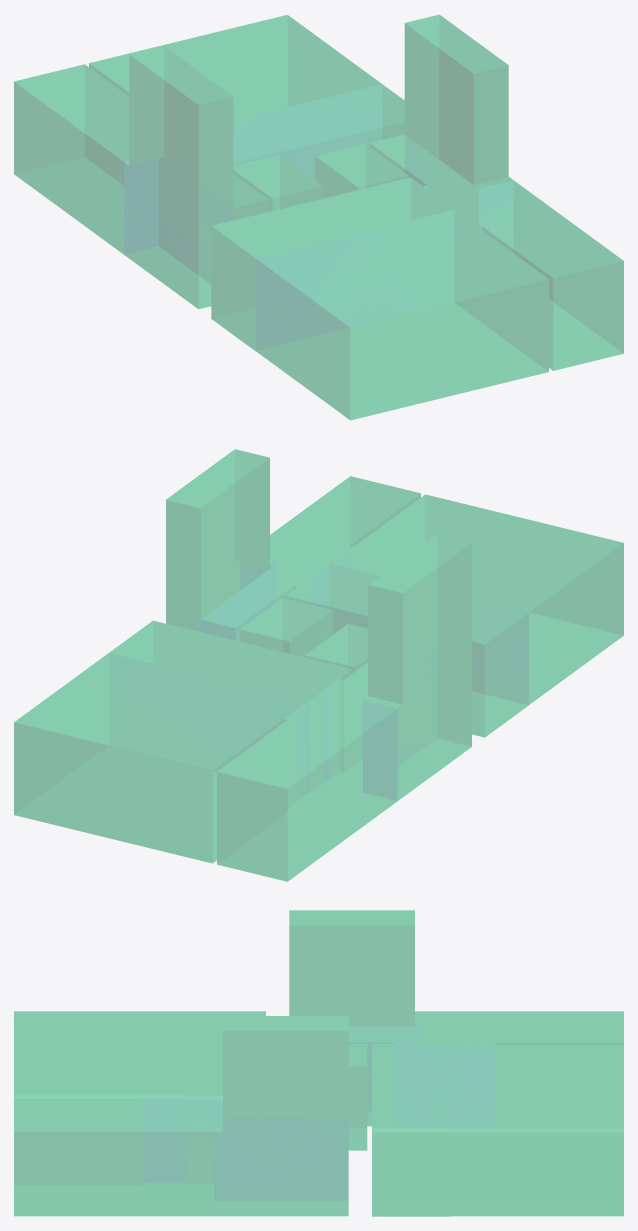
File: Plumbing and Heating_Level_1_IfcSpace.dae
3 renders of one model, top to bottom at view 1: azimuth 30°, elevation 25°; view 2: azimuth 150°, elevation 25°; view 3: azimuth 270°, elevation 25°, orthographic. The views are drawn at different scales.
Visible parts, largest first — view 1: 0CRPz_SEr94Ah74P8LhwCz, 1sxdtdrqb56BEe6diZkFqS, 0CRPz_SEr94Ah74P8LhwD6, 0CRPz_SEr94Ah74P8LhwD0, 0CRPz_SEr94Ah74P8LhwD4, 1sxdtdrqb56BEe6diZkFqD, 1sxdtdrqb56BEe6diZkFqP, 1sxdtdrqb56BEe6diZkFqy, 0CRPz_SEr94Ah74P8LhwD5, 1sxdtdrqb56BEe6diZkFqL, 0CRPz_SEr94Ah74P8LhwD1, 0CRPz_SEr94Ah74P8LhwC_ (+8 smaller); view 2: 0CRPz_SEr94Ah74P8LhwD1, 1sxdtdrqb56BEe6diZkFq3, 0CRPz_SEr94Ah74P8LhwD4, 0CRPz_SEr94Ah74P8LhwCz, 1sxdtdrqb56BEe6diZkFqS, 0CRPz_SEr94Ah74P8LhwD6, 1sxdtdrqb56BEe6diZkFqD, 1sxdtdrqb56BEe6diZkFqy, 0CRPz_SEr94Ah74P8LhwD5, 1sxdtdrqb56BEe6diZkFqL, 0CRPz_SEr94Ah74P8LhwD0, 0CRPz_SEr94Ah74P8LhwC_ (+8 smaller); view 3: 0CRPz_SEr94Ah74P8LhwD1, 1sxdtdrqb56BEe6diZkFq3, 0CRPz_SEr94Ah74P8LhwD5, 0CRPz_SEr94Ah74P8LhwD0, 1sxdtdrqb56BEe6diZkFqP, 1sxdtdrqb56BEe6diZkFqL, 0CRPz_SEr94Ah74P8LhwCz, 1sxdtdrqb56BEe6diZkFqS, 0CRPz_SEr94Ah74P8LhwD6, 1sxdtdrqb56BEe6diZkFqy, 0CRPz_SEr94Ah74P8LhwD2, 1sxdtdrqb56BEe6diZkFq6 (+6 smaller).
Boxes of the visible parts, x1=… form: 0CRPz_SEr94Ah74P8LhwCz: x1=256, y1=210, x2=548, y2=419; 1sxdtdrqb56BEe6diZkFqS: x1=256, y1=210, x2=548, y2=419; 0CRPz_SEr94Ah74P8LhwD6: x1=124, y1=46, x2=232, y2=308; 0CRPz_SEr94Ah74P8LhwD0: x1=370, y1=135, x2=623, y2=370; 0CRPz_SEr94Ah74P8LhwD4: x1=14, y1=64, x2=267, y2=253; 1sxdtdrqb56BEe6diZkFqD: x1=14, y1=65, x2=267, y2=253; 1sxdtdrqb56BEe6diZkFqP: x1=370, y1=135, x2=623, y2=370; 1sxdtdrqb56BEe6diZkFqy: x1=125, y1=46, x2=232, y2=308; 0CRPz_SEr94Ah74P8LhwD5: x1=405, y1=15, x2=512, y2=188; 1sxdtdrqb56BEe6diZkFqL: x1=405, y1=15, x2=511, y2=187; 0CRPz_SEr94Ah74P8LhwD1: x1=89, y1=15, x2=380, y2=119; 0CRPz_SEr94Ah74P8LhwC_: x1=211, y1=177, x2=453, y2=350; 0CRPz_SEr94Ah74P8LhwD1: x1=14, y1=653, x2=306, y2=862; 1sxdtdrqb56BEe6diZkFq3: x1=14, y1=653, x2=305, y2=862; 0CRPz_SEr94Ah74P8LhwD4: x1=217, y1=663, x2=397, y2=881; 0CRPz_SEr94Ah74P8LhwCz: x1=331, y1=495, x2=623, y2=704; 1sxdtdrqb56BEe6diZkFqS: x1=332, y1=495, x2=623, y2=704; 0CRPz_SEr94Ah74P8LhwD6: x1=364, y1=534, x2=471, y2=800; 1sxdtdrqb56BEe6diZkFqD: x1=217, y1=663, x2=396, y2=881; 1sxdtdrqb56BEe6diZkFqy: x1=368, y1=534, x2=471, y2=799; 0CRPz_SEr94Ah74P8LhwD5: x1=166, y1=449, x2=273, y2=631; 1sxdtdrqb56BEe6diZkFqL: x1=166, y1=449, x2=273, y2=631; 0CRPz_SEr94Ah74P8LhwD0: x1=201, y1=476, x2=420, y2=641; 0CRPz_SEr94Ah74P8LhwC_: x1=285, y1=564, x2=528, y2=736; 0CRPz_SEr94Ah74P8LhwD1: x1=452, y1=1045, x2=623, y2=1215; 1sxdtdrqb56BEe6diZkFq3: x1=452, y1=1045, x2=623, y2=1215; 0CRPz_SEr94Ah74P8LhwD5: x1=214, y1=1016, x2=348, y2=1215; 0CRPz_SEr94Ah74P8LhwD0: x1=14, y1=1099, x2=222, y2=1215; 1sxdtdrqb56BEe6diZkFqP: x1=14, y1=1100, x2=222, y2=1215; 1sxdtdrqb56BEe6diZkFqL: x1=214, y1=1016, x2=347, y2=1215; 0CRPz_SEr94Ah74P8LhwCz: x1=14, y1=1011, x2=185, y2=1100; 1sxdtdrqb56BEe6diZkFqS: x1=14, y1=1012, x2=185, y2=1100; 0CRPz_SEr94Ah74P8LhwD6: x1=289, y1=910, x2=423, y2=1026; 1sxdtdrqb56BEe6diZkFqy: x1=290, y1=911, x2=423, y2=1026; 0CRPz_SEr94Ah74P8LhwD2: x1=372, y1=1044, x2=451, y2=1216; 1sxdtdrqb56BEe6diZkFq6: x1=372, y1=1044, x2=451, y2=1215.
Size of the model in its own units: 7.97 by 16.97 by 5.69.
